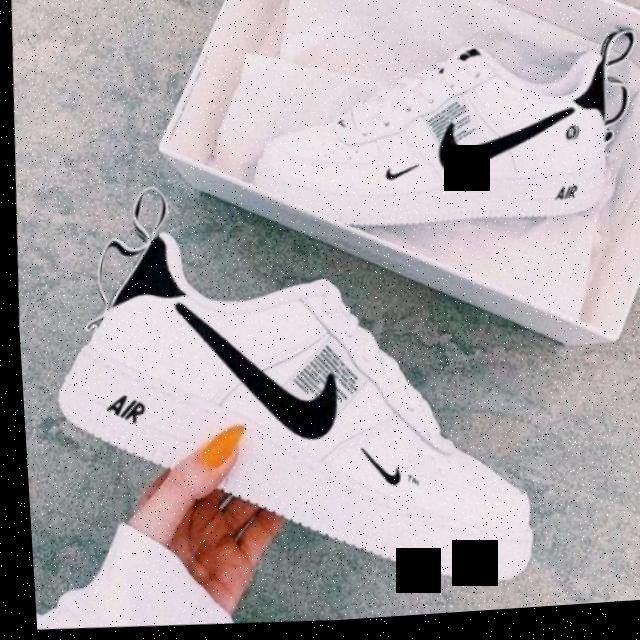shoes: (51, 220, 546, 612), (255, 31, 630, 239)
